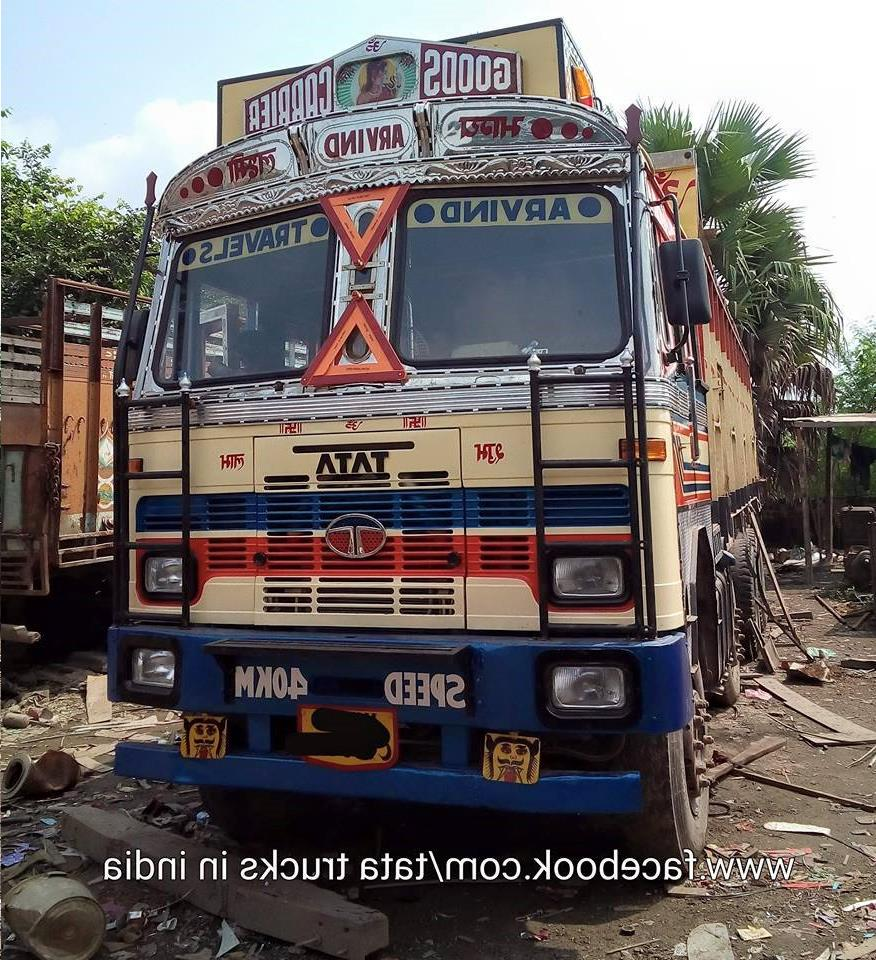truck: (98, 105, 793, 838)
